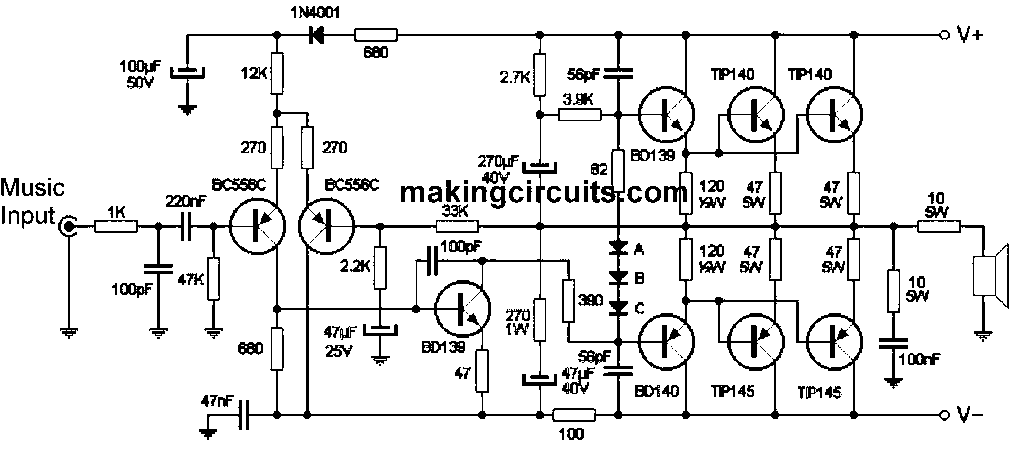C: (166, 60, 210, 87), (361, 319, 402, 341), (236, 395, 258, 432), (873, 333, 911, 354), (177, 210, 200, 244), (141, 260, 178, 277)
D: (603, 265, 634, 288), (605, 235, 632, 261), (603, 295, 632, 318)
Q: (803, 307, 867, 375), (637, 82, 702, 148), (430, 277, 493, 342), (294, 196, 359, 258), (725, 82, 790, 143), (227, 196, 289, 258), (809, 83, 867, 148)
R: (198, 252, 229, 305), (529, 45, 556, 104), (262, 47, 293, 98), (266, 322, 295, 375), (350, 22, 407, 48), (368, 241, 394, 294), (264, 124, 290, 174), (297, 123, 322, 172), (557, 104, 608, 128), (429, 218, 489, 238), (675, 233, 697, 286), (560, 276, 581, 326)
